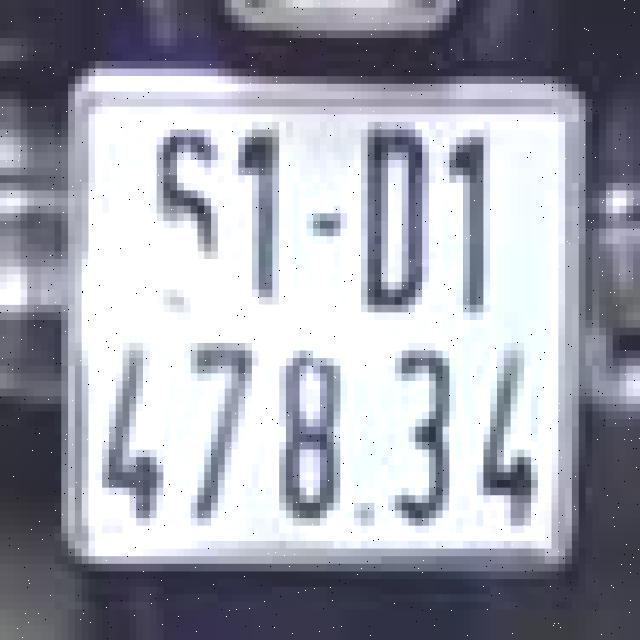1: (228, 114, 310, 328), (446, 110, 514, 324)
3: (361, 328, 463, 556)
4: (466, 328, 562, 548), (92, 328, 180, 533)
5: (143, 118, 238, 332)
7: (184, 324, 259, 552)
8: (276, 324, 350, 537)
D: (344, 107, 432, 343)
